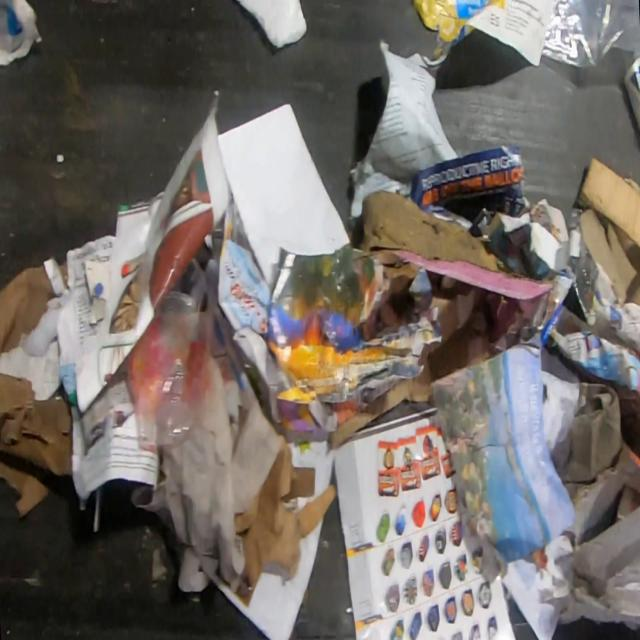cardboard: (328, 274, 494, 450), (552, 382, 640, 633), (0, 261, 74, 522), (235, 436, 338, 589), (356, 189, 506, 273), (574, 154, 640, 308), (412, 0, 506, 58)
soft_plastic: (120, 289, 216, 452), (541, 0, 640, 71)
